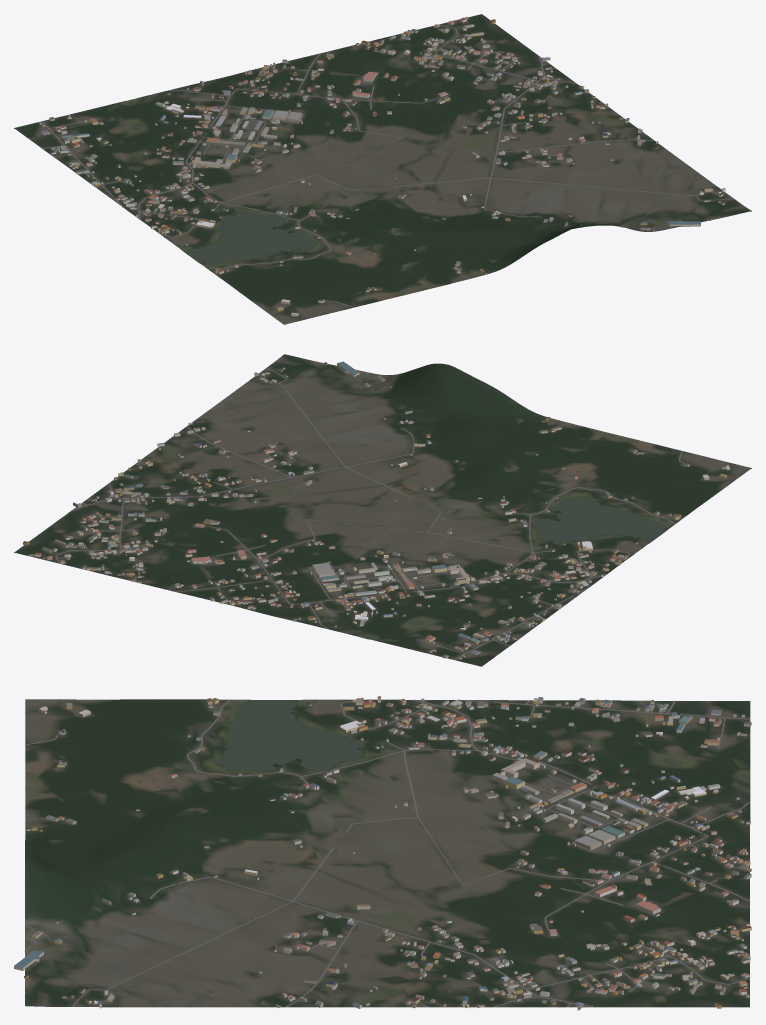
3 renders of one model, top to bottom at view 1: azimuth 30°, elevation 25°; view 2: azimuth 150°, elevation 25°; view 3: azimuth 270°, elevation 25°, orthographic. The views are drawn at different scales.
Parts seen in each view (by area): view 1: ground, buildings, water, roads; view 2: ground, buildings, water, roads; view 3: ground, buildings, water, roads.
Part boxes in pixels (x1,y1,x2,y2): ground: (14, 14, 751, 324); buildings: (39, 16, 725, 316); water: (128, 99, 315, 264); roads: (42, 25, 733, 307); ground: (14, 354, 751, 666); buildings: (23, 361, 729, 659); water: (363, 496, 666, 638); roads: (55, 363, 684, 659); ground: (25, 699, 750, 1007); buildings: (14, 696, 751, 1010); water: (214, 700, 749, 778); roads: (25, 699, 750, 1007).
Bounding box in the file's own units: 1417 × 90.6 × 1427.
